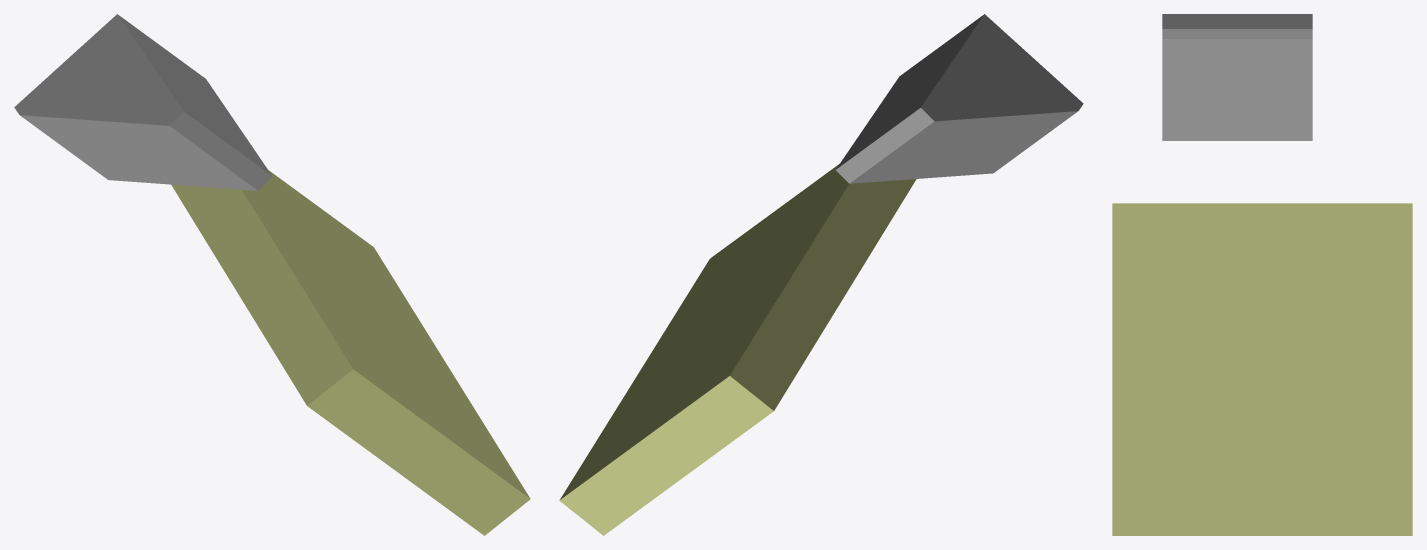
3 views of the same model, side by side, from view 1: azimuth 30°, elevation 25°; view 2: azimuth 150°, elevation 25°; view 3: azimuth 270°, elevation 25° (orthographic). The views are drawn at different scales.
Parts seen in each view (by area): view 1: 0_1_1_3_2_2_3_3_0_1_2; view 2: 0_1_1_3_2_2_3_3_0_1_2; view 3: 0_1_1_3_2_2_3_3_0_1_2.
Part boxes in pixels (left/top/right/bottom): 0_1_1_3_2_2_3_3_0_1_2: left=14, top=14, right=530, bottom=535; 0_1_1_3_2_2_3_3_0_1_2: left=559, top=14, right=1083, bottom=535; 0_1_1_3_2_2_3_3_0_1_2: left=1112, top=14, right=1412, bottom=535.
Size of the model in its own units: 7.77 by 9.25 by 6.
